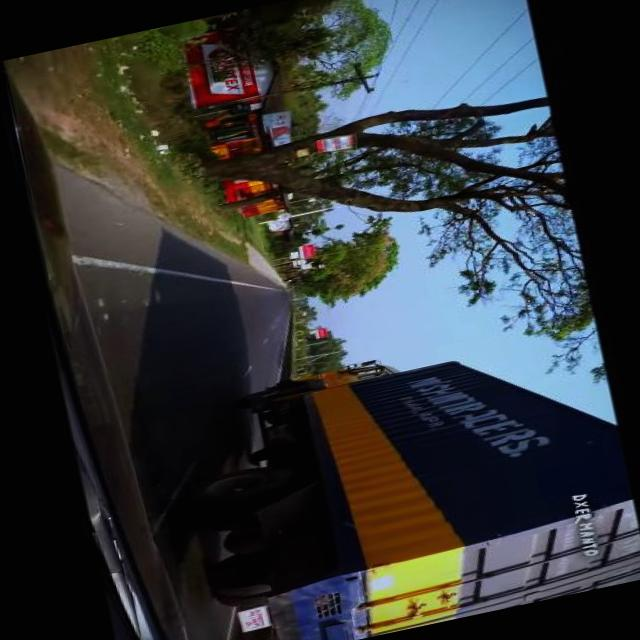truck: (154, 309, 640, 640)
